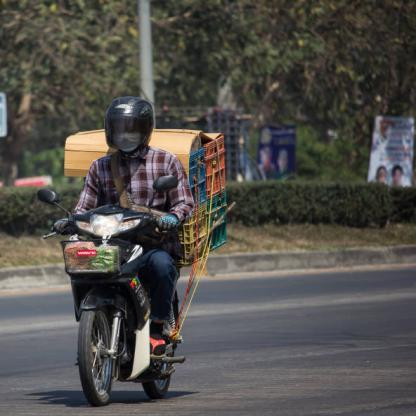Motorcycle: (32, 187, 183, 406)
